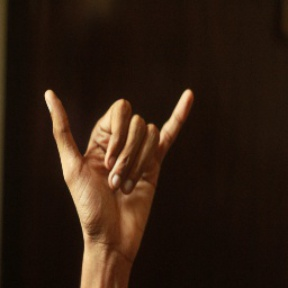J: (40, 67, 197, 238)
